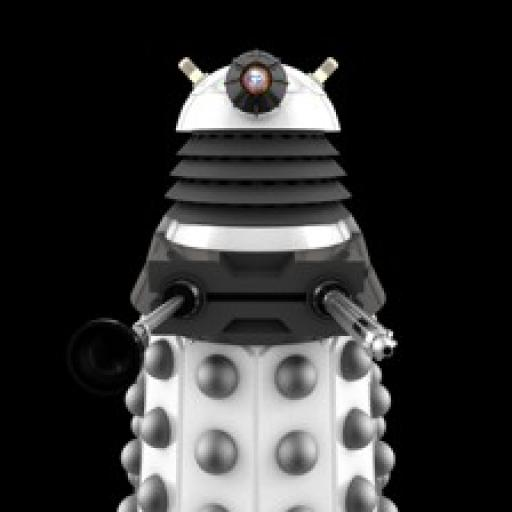dalek: (66, 48, 405, 512)
